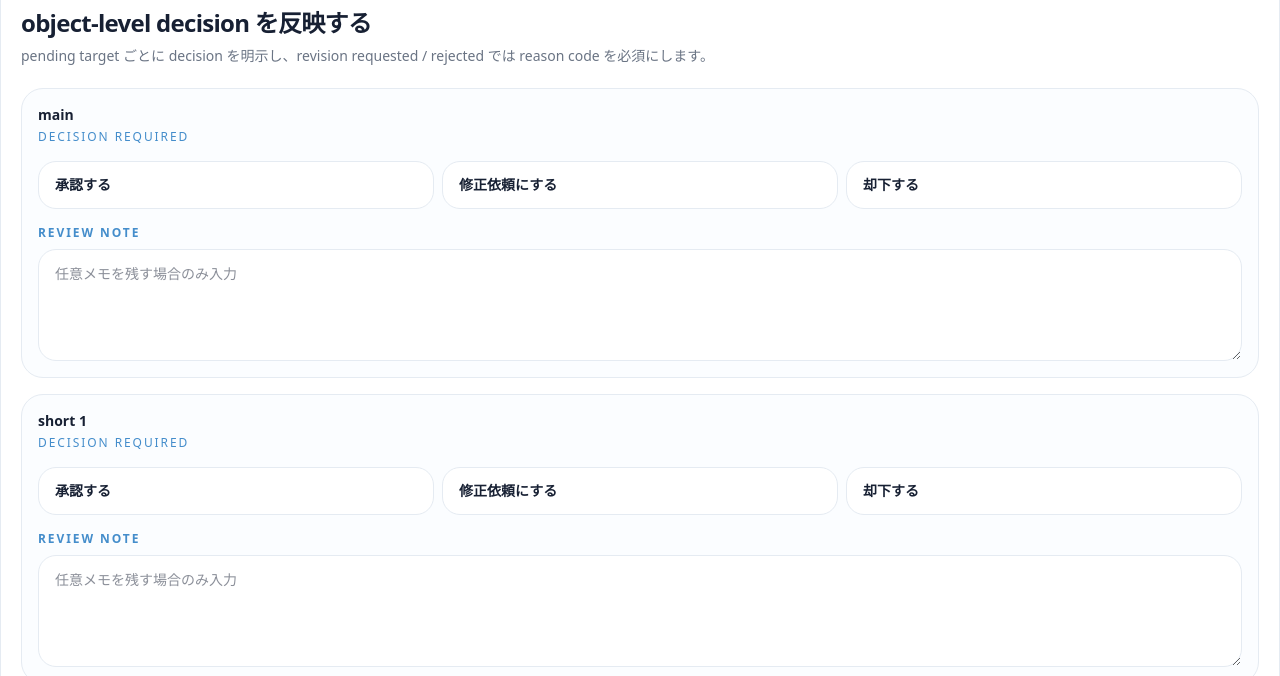
Test: SubmissionReviewDecisionForm › requires an explicit reason selection for rejected or revision requested decisions
Click the 1st button "却下する": coordinates (891, 185) [846,161,1242,209]
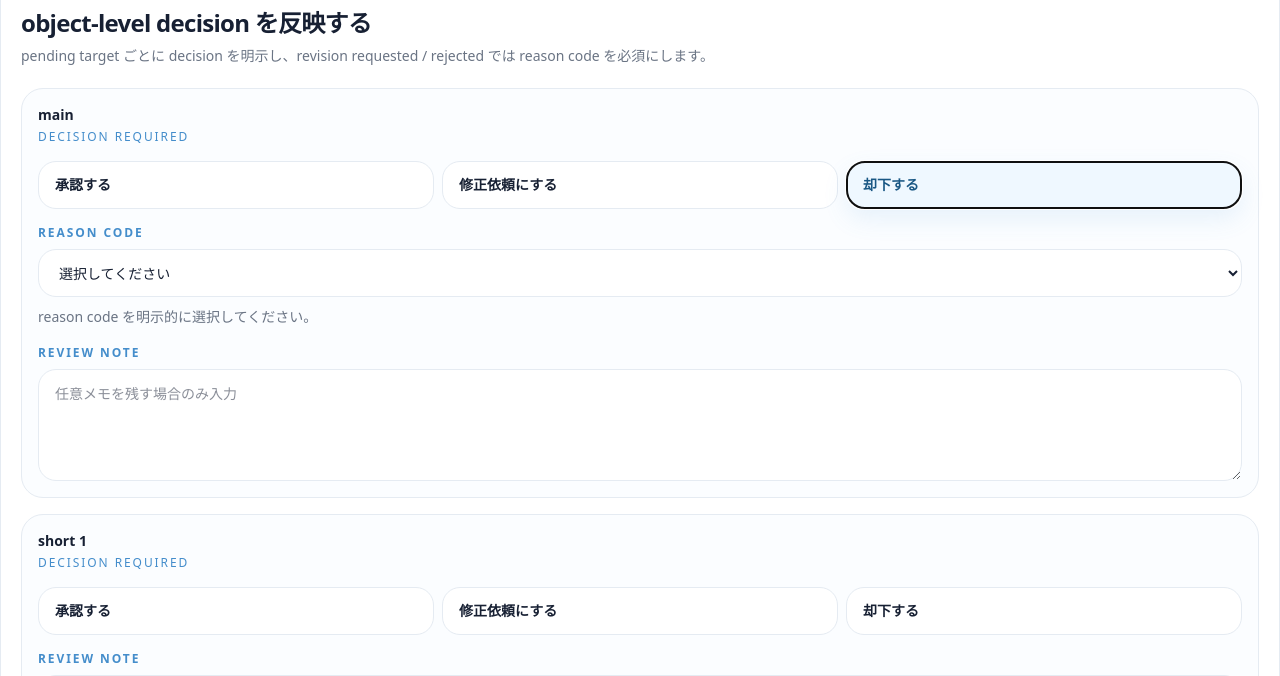
Click the button "承認する" below "short 1": coordinates (83, 611) [38,587,434,635]
(page scrolled)
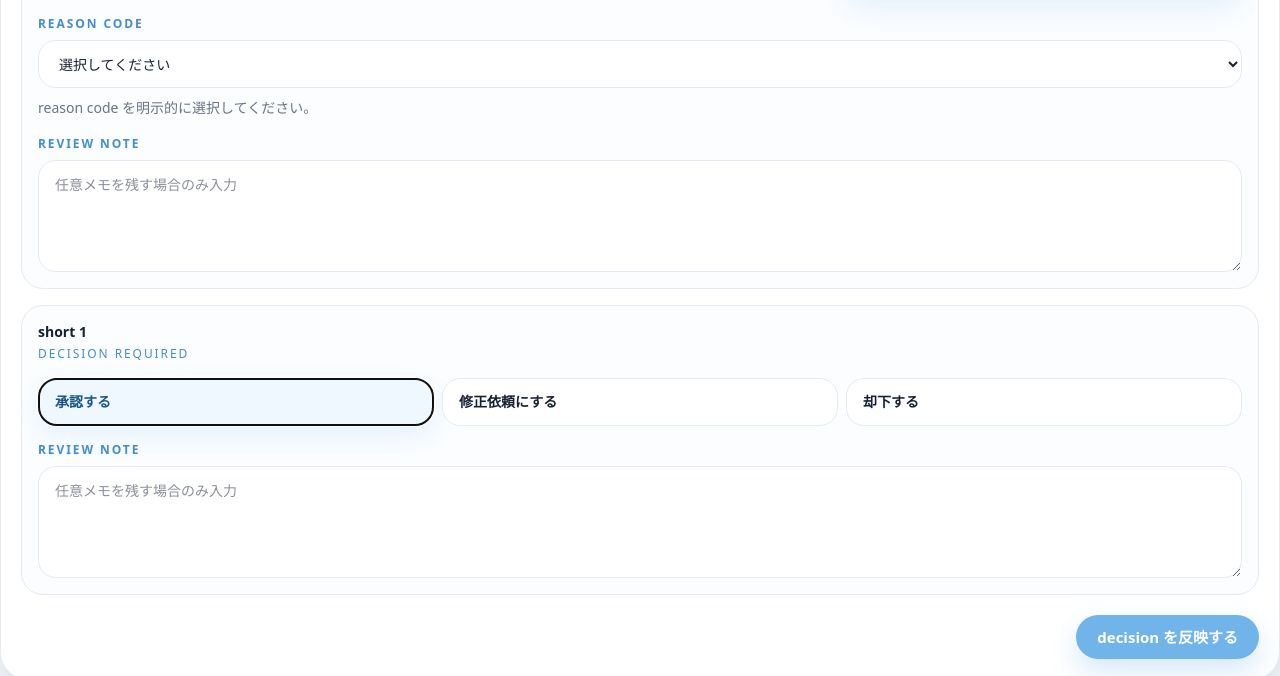
Click the button "decision を反映する": coordinates (1168, 637) [1076,615,1259,659]
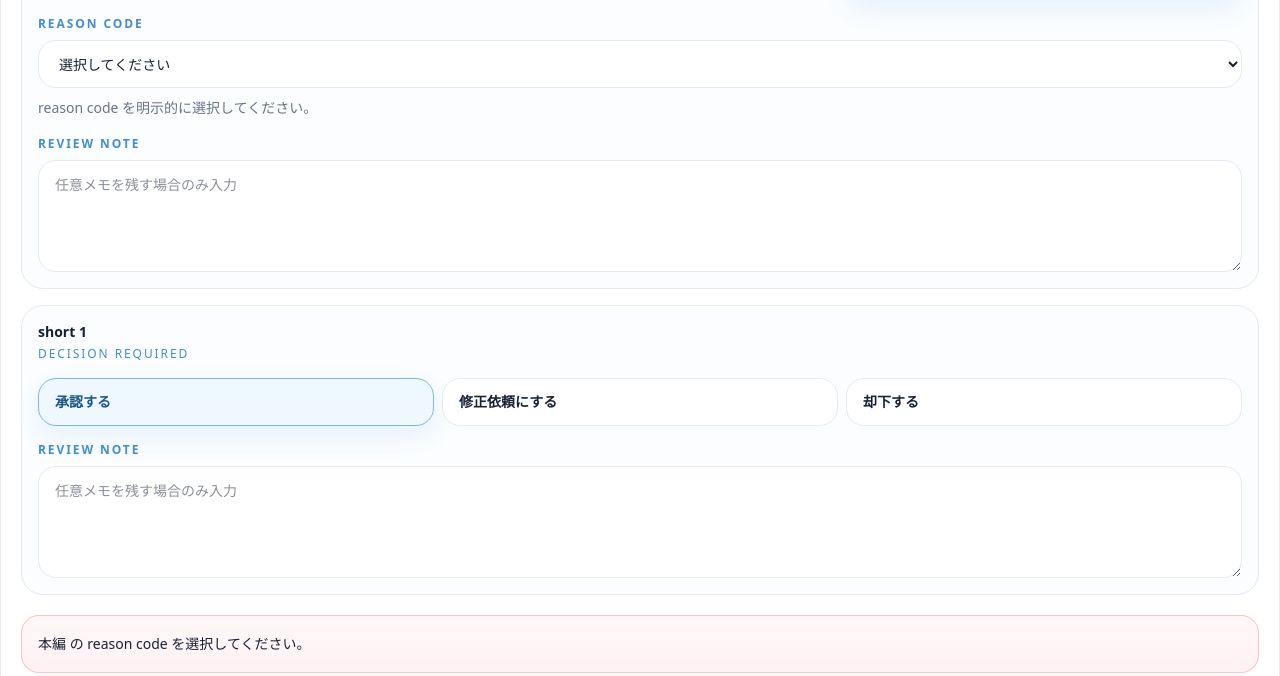
Expected: the message reads "本編 の reason code を選択してください。", [38,634,310,653]
